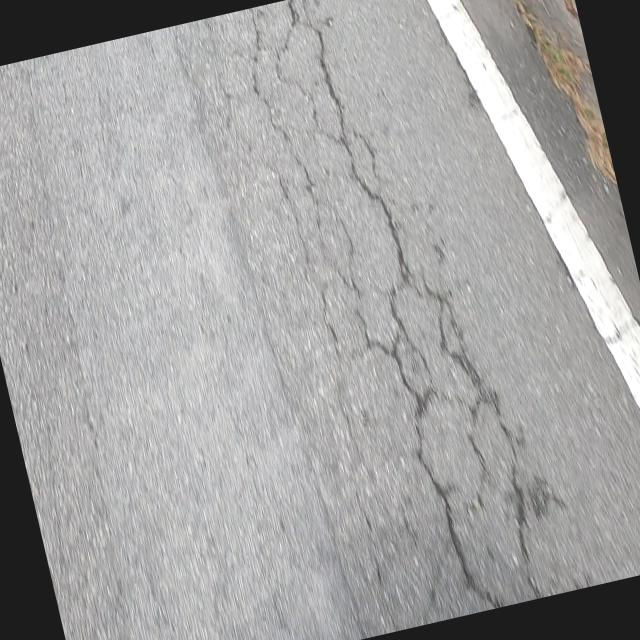Retak-Buaya: (249, 0, 541, 632)
